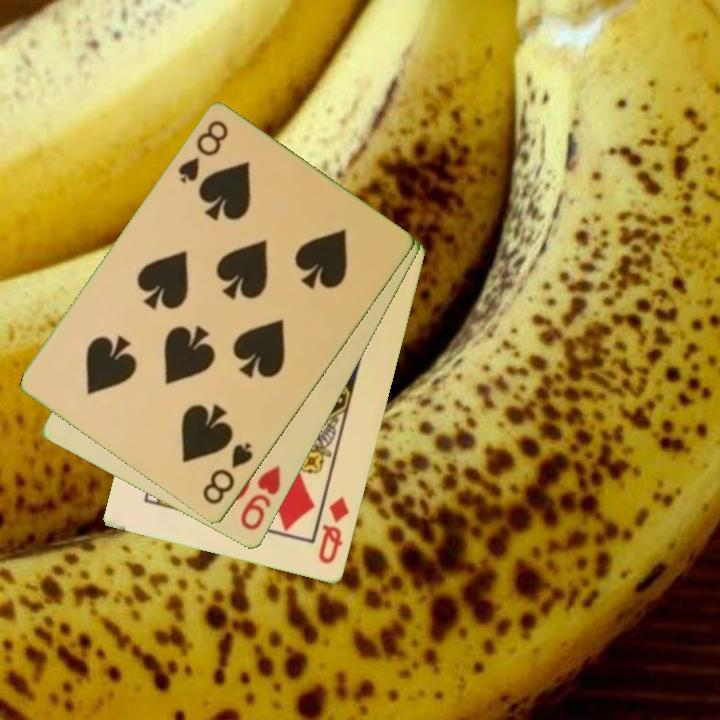8s: (174, 117, 232, 188), (199, 439, 256, 509)
9h: (237, 462, 284, 534)
Qd: (314, 493, 352, 568)
